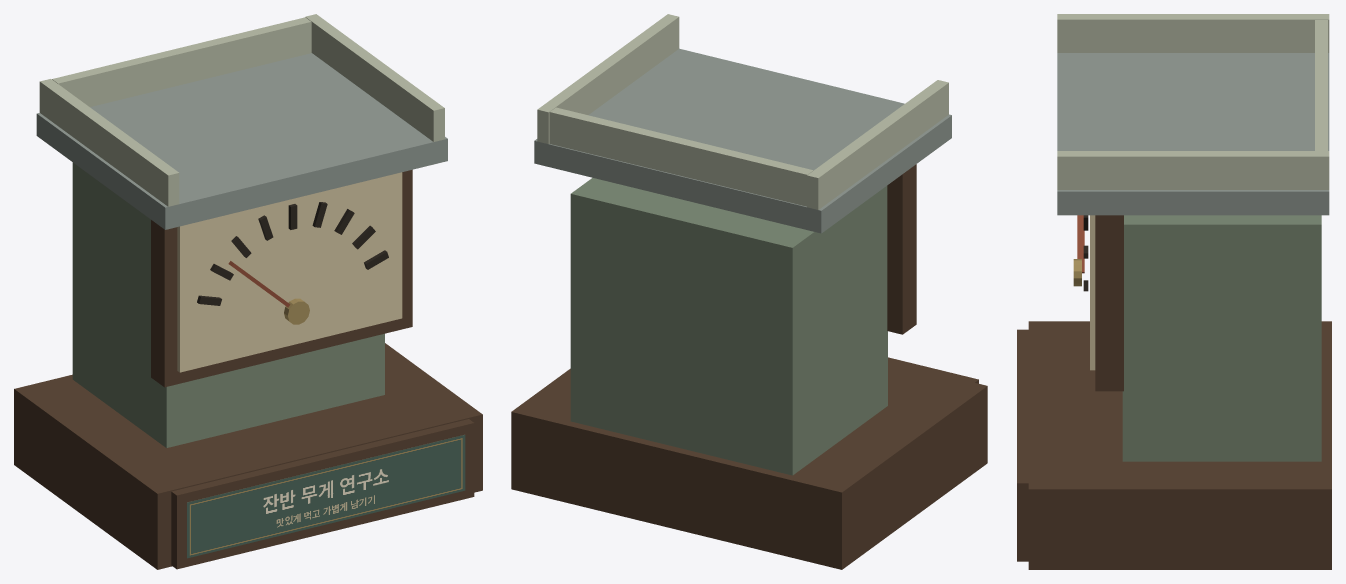
The model's file is M01_Leftover_Scale.fbx.
3 views of the same model, side by side, from view 1: azimuth 30°, elevation 25°; view 2: azimuth 150°, elevation 25°; view 3: azimuth 270°, elevation 25° (orthographic). The views are drawn at different scales.
Visible parts, largest first — view 1: Structure.005; view 2: Structure.005; view 3: Structure.005.
Part boxes in pixels (left/top/right/bottom): Structure.005: left=14, top=14, right=482, bottom=569; Structure.005: left=511, top=14, right=987, bottom=569; Structure.005: left=1017, top=14, right=1331, bottom=569.
Bounding box in the file's own units: 76 × 84.5 × 60.4.
Materials: 1 (1 with a texture image).
